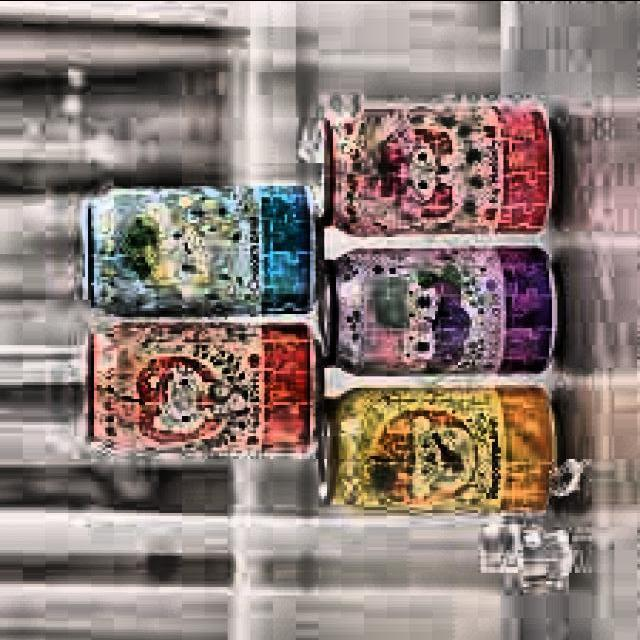Aluminum Can: (68, 173, 320, 319), (309, 376, 567, 518), (318, 238, 572, 382), (314, 94, 565, 238), (76, 318, 321, 457)
